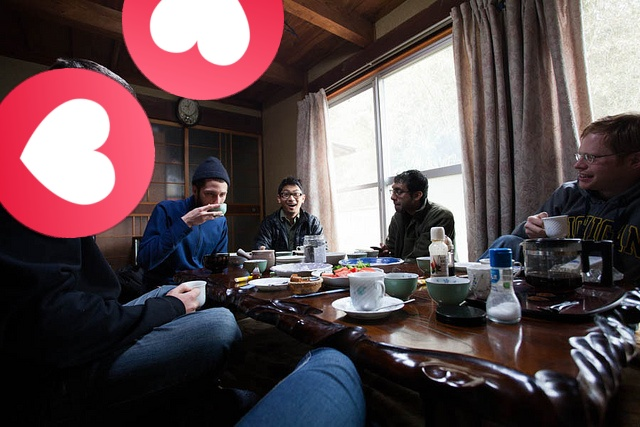love: (0, 68, 155, 238), (122, 0, 284, 100)
